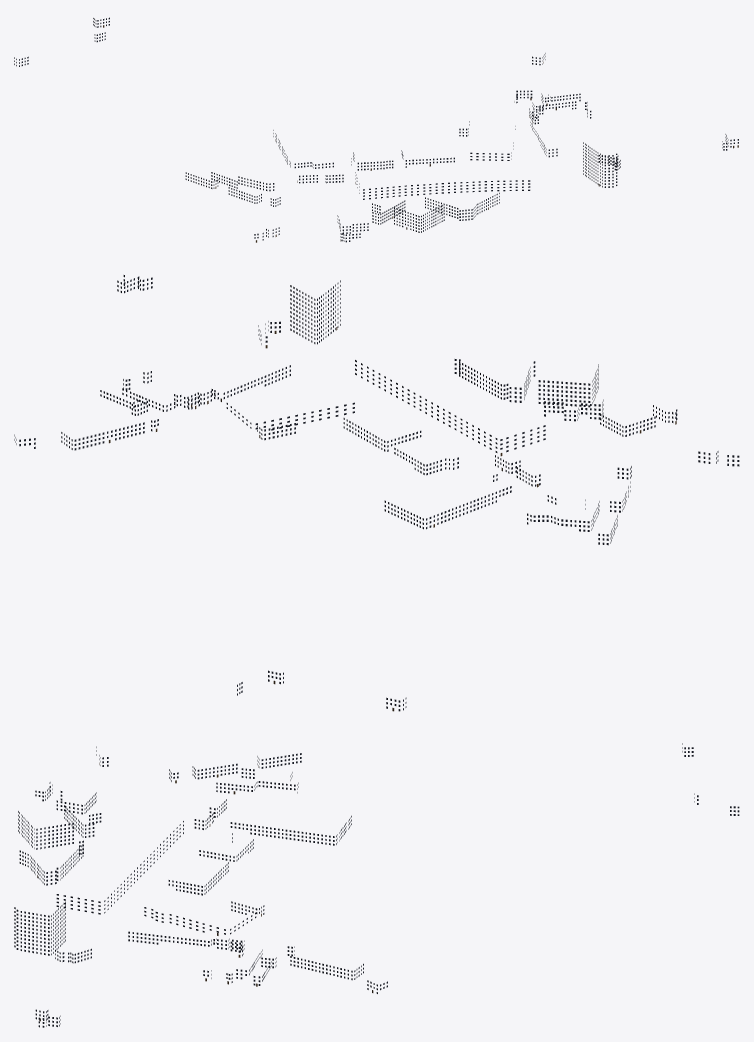
The model's file is facades.glb.
The picture shows the model from 3 angles, top to bottom: view 1: azimuth 30°, elevation 25°; view 2: azimuth 150°, elevation 25°; view 3: azimuth 270°, elevation 25°; orthographic projection. The views are drawn at different scales.
Visible parts, largest first — view 1: T_E0_N4_facades; view 2: T_E0_N4_facades; view 3: T_E0_N4_facades.
Boxes of the visible parts, <box> form: T_E0_N4_facades: <box>14,17,738,242</box>; T_E0_N4_facades: <box>14,275,739,711</box>; T_E0_N4_facades: <box>14,743,739,1027</box>.
Size of the model in its own units: 468 by 32.4 by 516.
